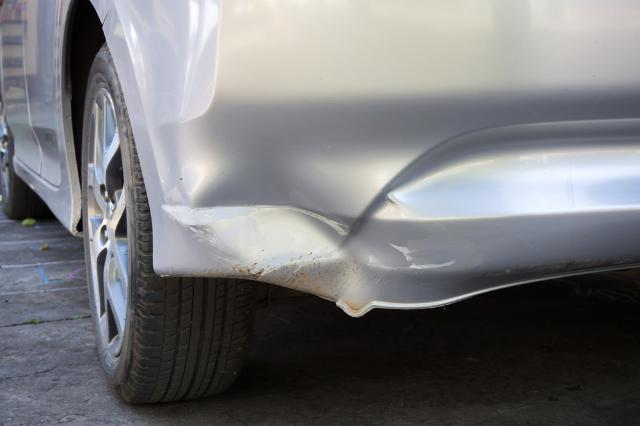dent: (151, 91, 482, 317)
